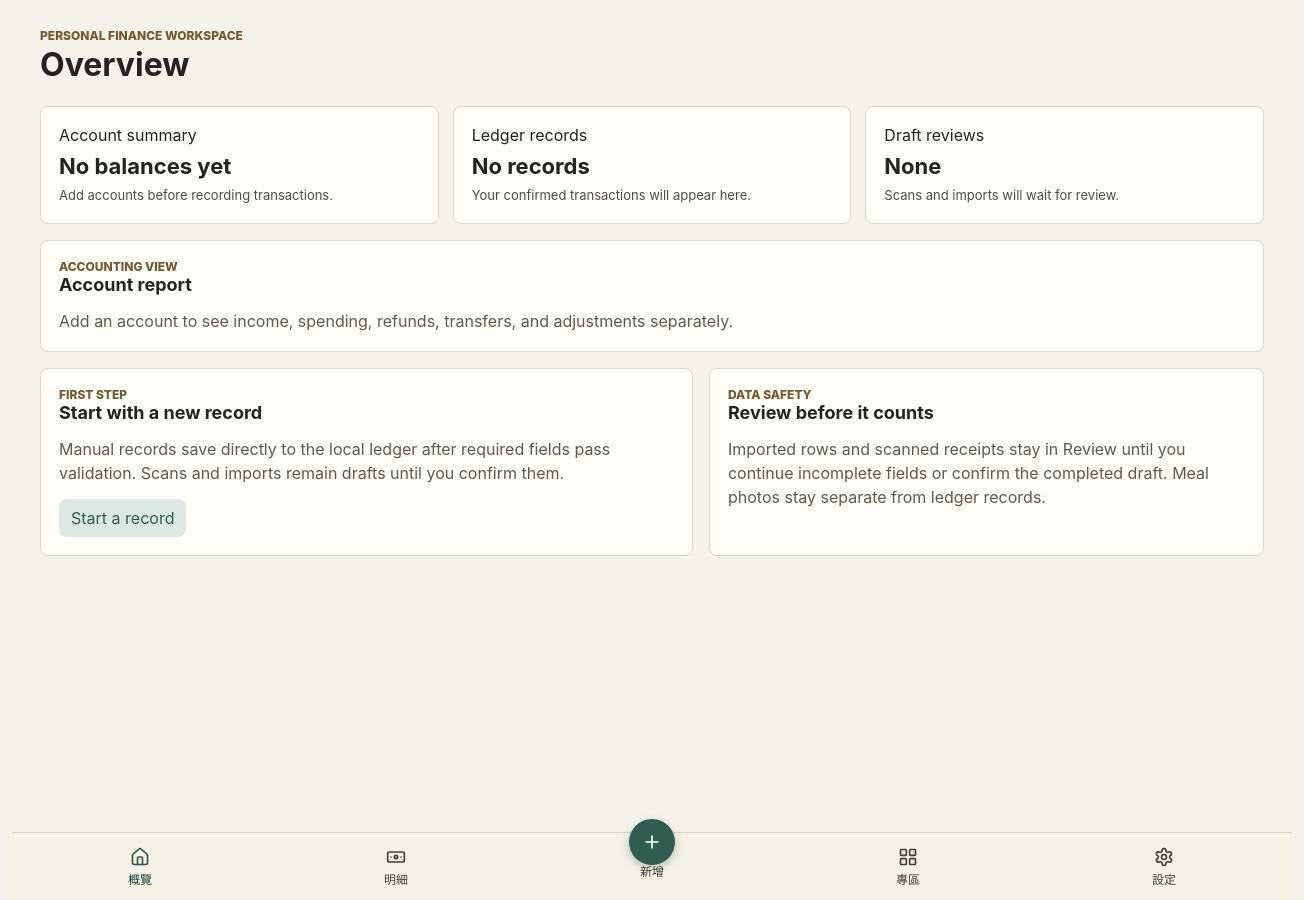
Test: app auth boundary › reveals and masks the sign-in password with the visibility toggle
Click the button "設定": coordinates (1164, 866) [1036, 833, 1292, 899]
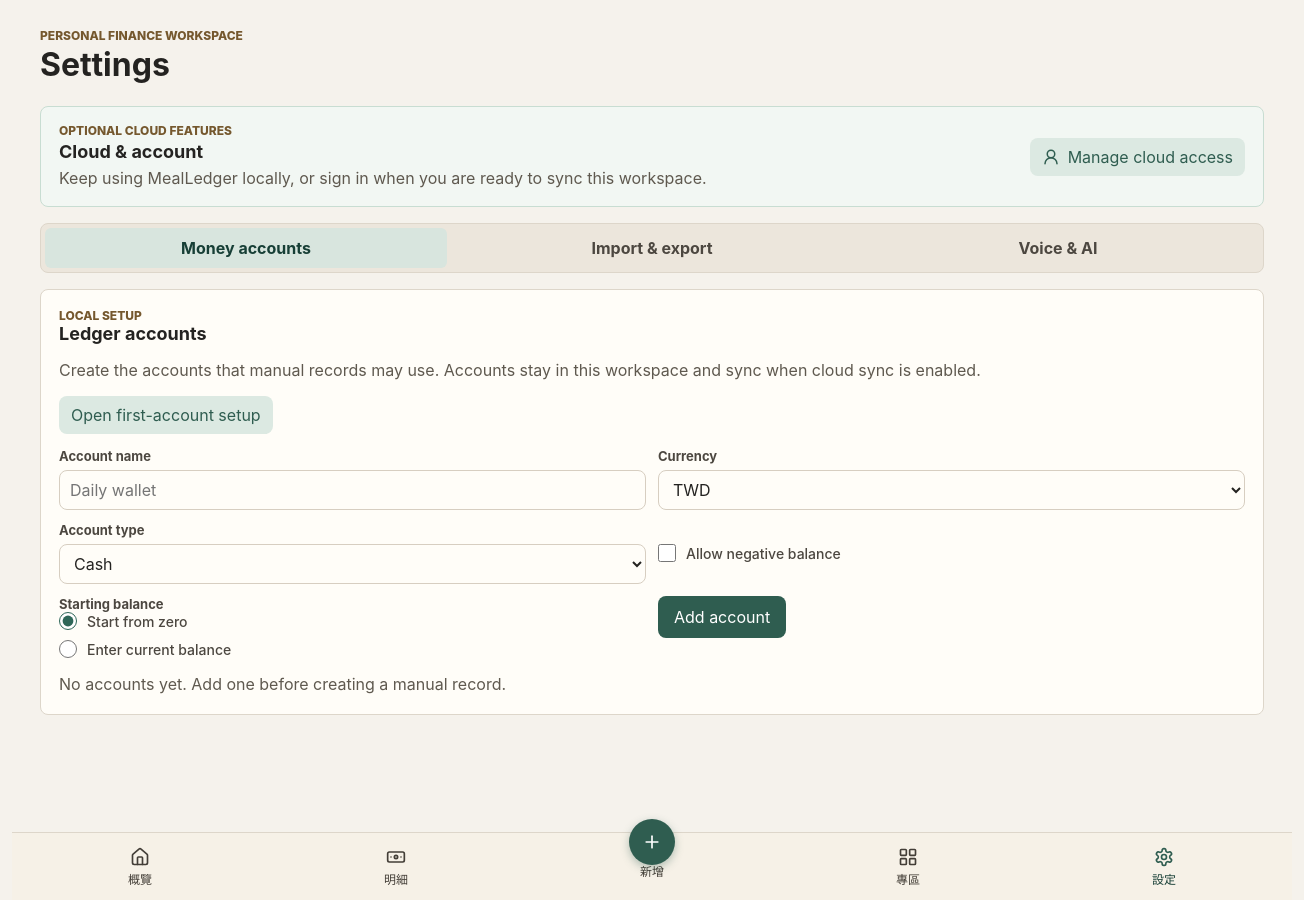
Click the button "Manage cloud access": coordinates (1137, 157) [1030, 138, 1245, 176]
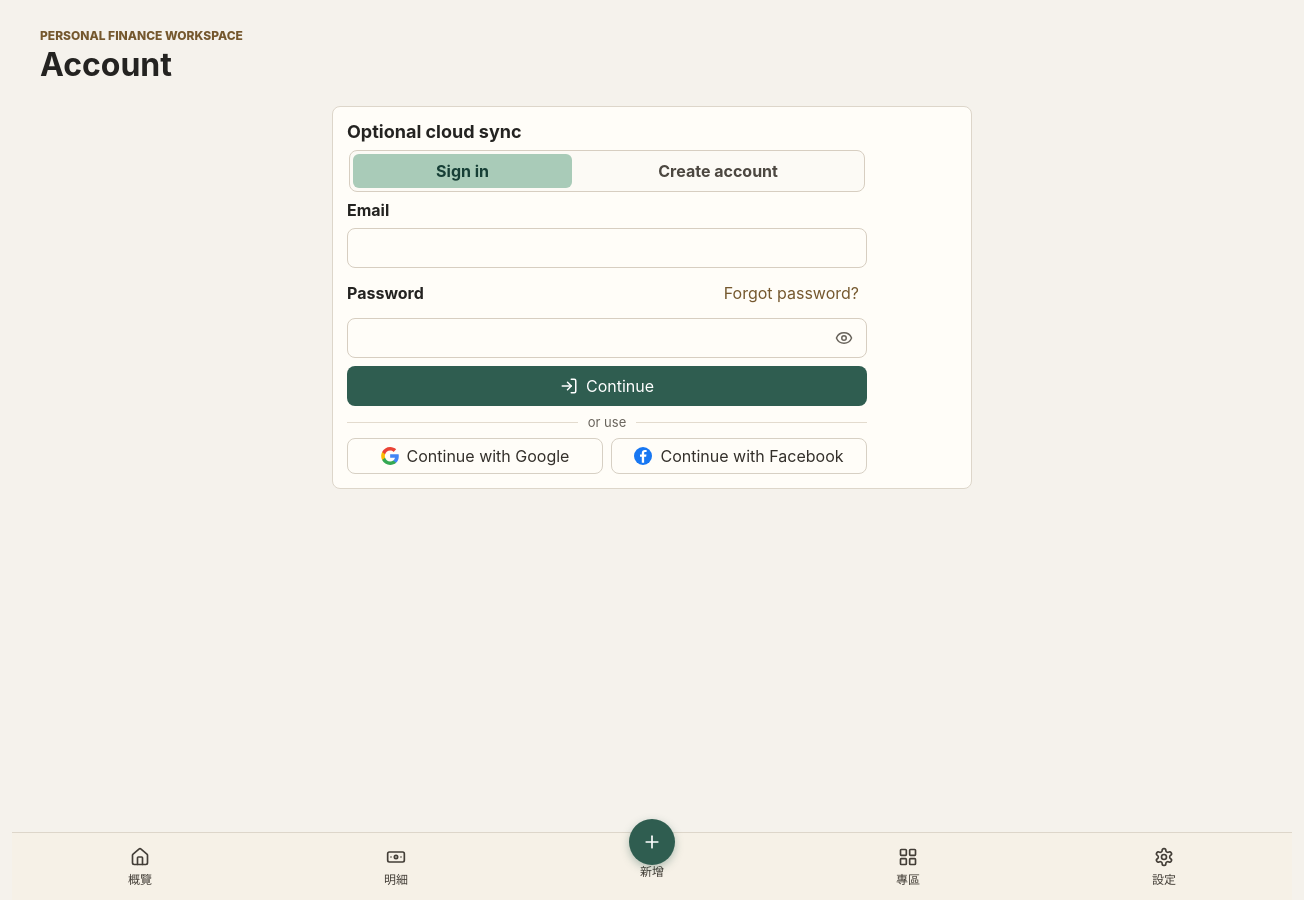
In the password field labelled "Password": coordinates (607, 338) [347, 318, 867, 358], type "secret"
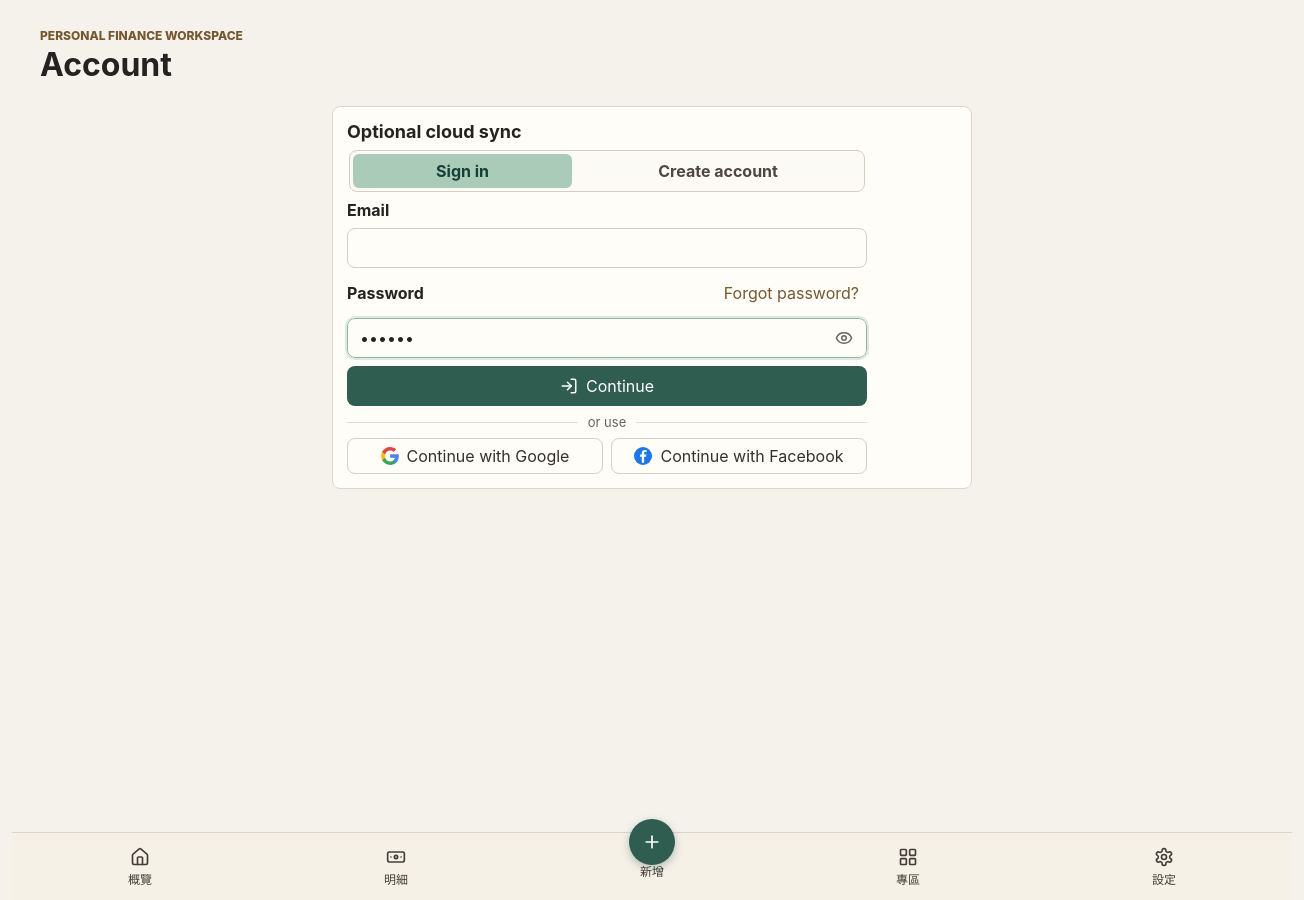
Click the button named "Show password": coordinates (844, 338) [827, 321, 861, 355]
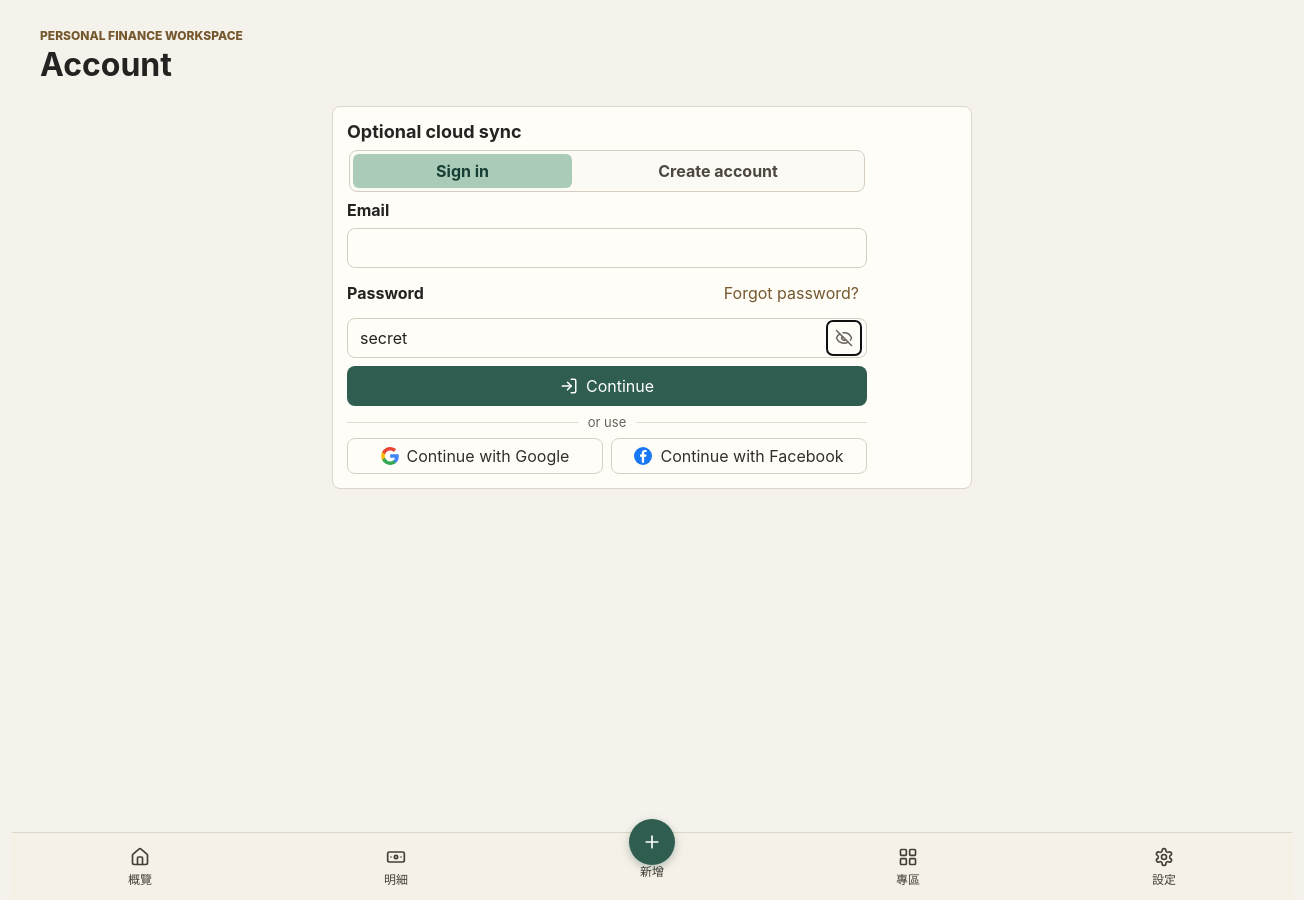
Expected: the field labelled "Password" shows its text, [347, 318, 867, 358]
Expected: the button named "Hide password" is shown
Click the button named "Hide password": coordinates (844, 338) [827, 321, 861, 355]
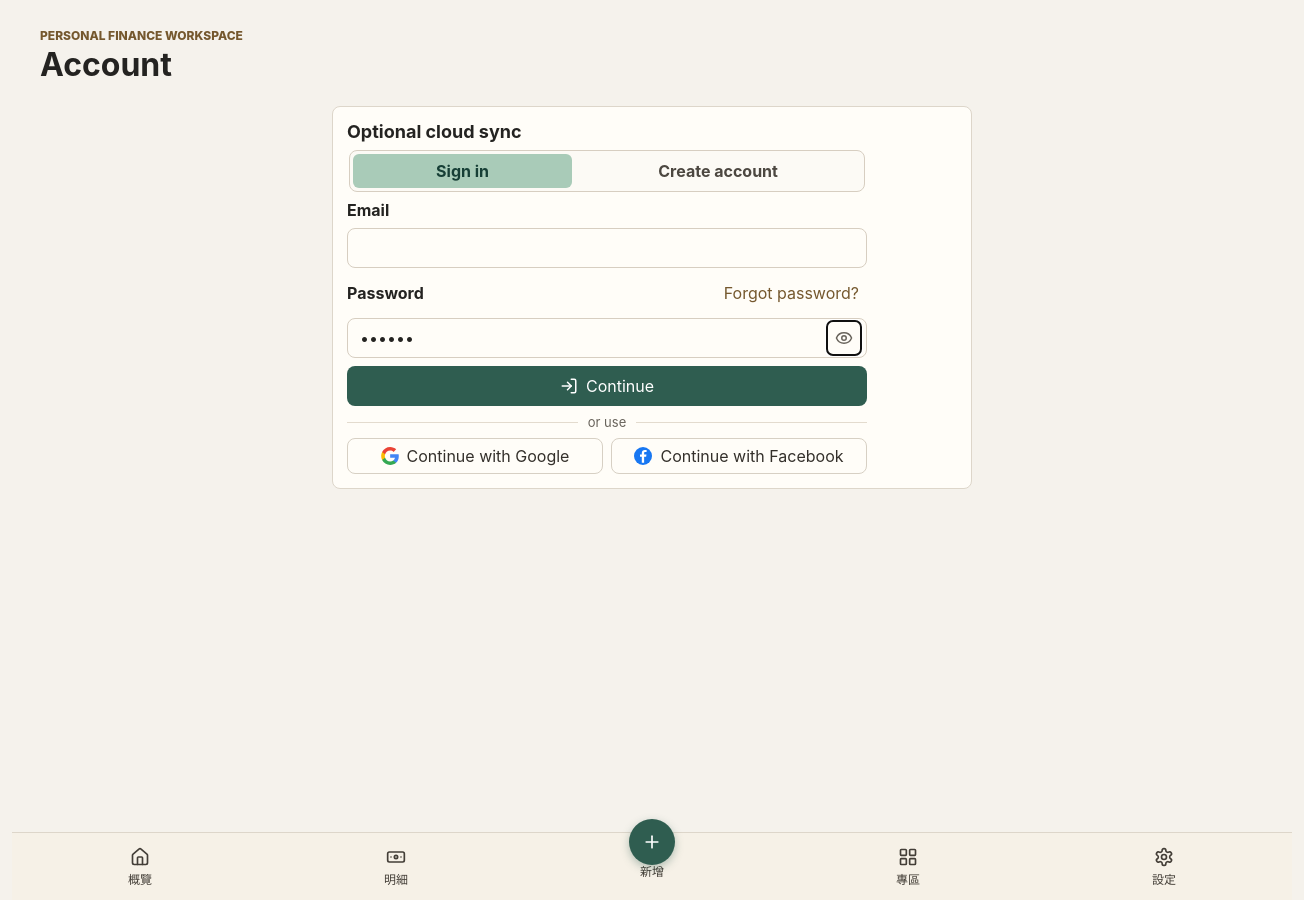
Expected: the password field labelled "Password" hides its text, [347, 318, 867, 358]
